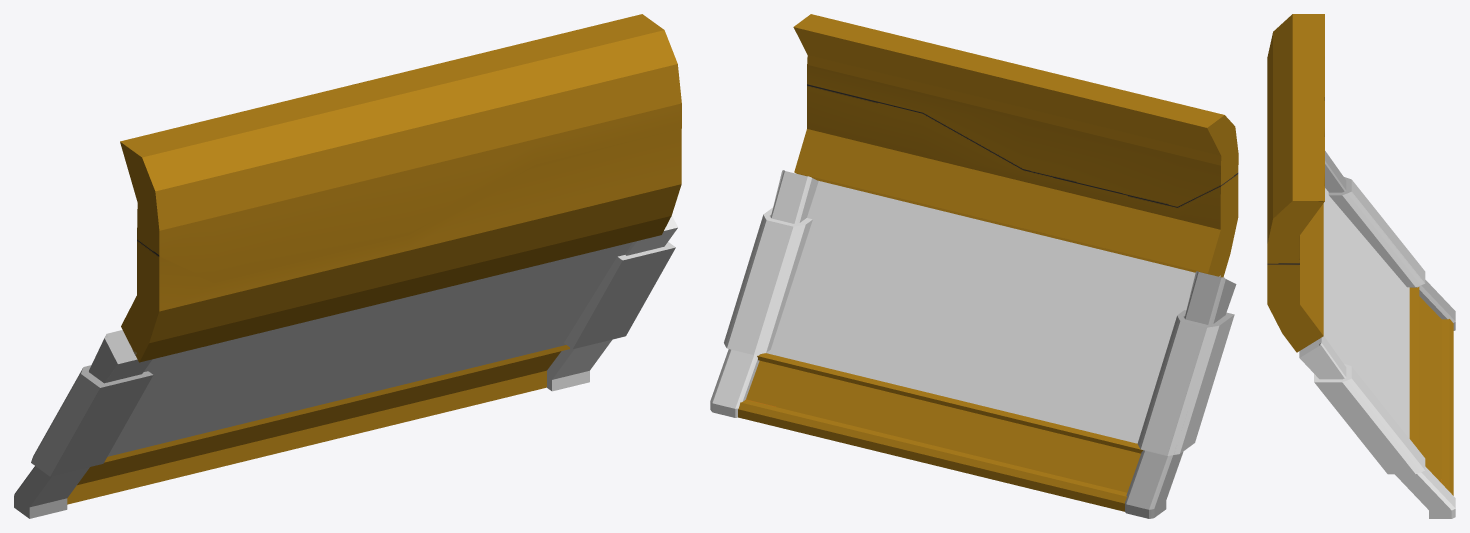
File: wall2Text.fbx
3 views of the same model, side by side, from view 1: azimuth 30°, elevation 25°; view 2: azimuth 150°, elevation 25°; view 3: azimuth 270°, elevation 25° (orthographic). The views are drawn at different scales.
Parts seen in each view (by area): view 1: wallHeight, Glass, Cube.001, pillier, pillier.001; view 2: wallHeight, Glass, Cube.001, pillier, pillier.001; view 3: wallHeight, Glass, pillier.001, Cube.001, pillier.
Boxes of the visible parts, <box> form: wallHeight: <box>120,14,681,362</box>; Glass: <box>107,242,632,456</box>; Cube.001: <box>67,345,569,504</box>; pillier: <box>14,330,153,518</box>; pillier.001: <box>547,215,677,391</box>; wallHeight: <box>793,14,1238,277</box>; Glass: <box>766,180,1220,443</box>; Cube.001: <box>738,353,1143,511</box>; pillier: <box>1125,271,1236,518</box>; pillier.001: <box>710,170,818,417</box>; wallHeight: <box>1267,14,1324,352</box>; Glass: <box>1302,188,1409,438</box>; pillier.001: <box>1299,336,1455,518</box>; Cube.001: <box>1409,287,1453,495</box>; pillier: <box>1325,151,1455,330</box>.
Bounding box in the file's own units: 505 × 356 × 195.
3 materials, 3 textured.
